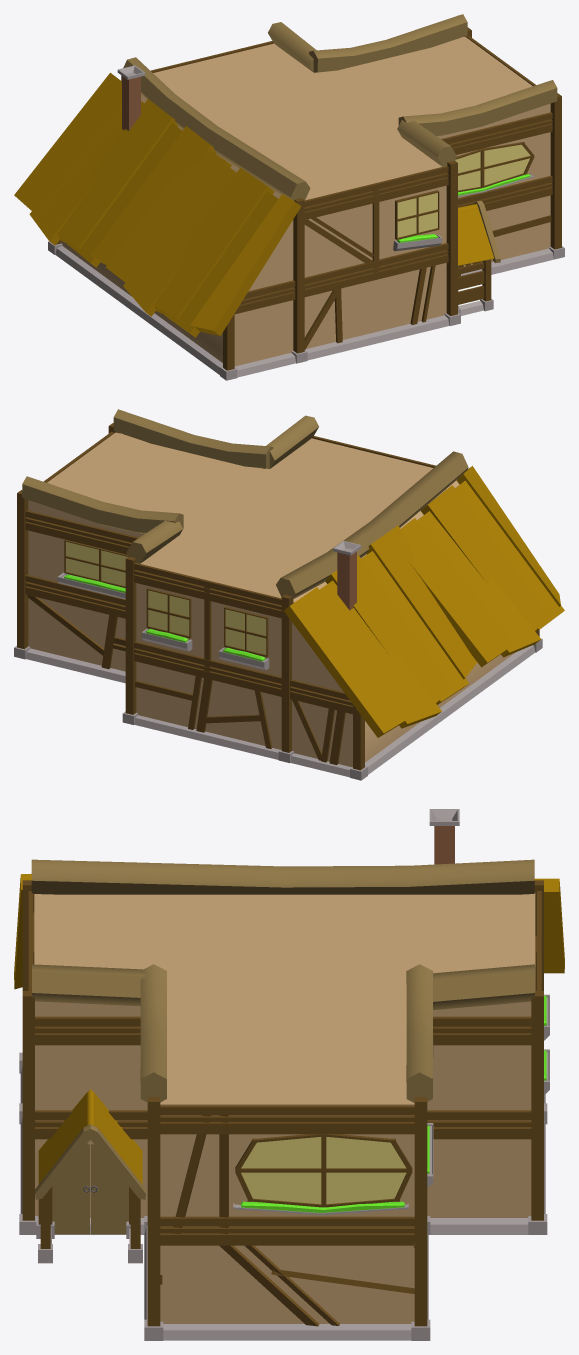
File: mesh_flat_house_T_section_Without.fbx
3 views of the same model, one above another, from view 1: azimuth 30°, elevation 25°; view 2: azimuth 150°, elevation 25°; view 3: azimuth 270°, elevation 25° (orthographic). The views are drawn at different scales.
Visible parts, largest first — view 1: flat_house_T_section_Without; view 2: flat_house_T_section_Without; view 3: flat_house_T_section_Without.
Boxes of the visible parts, left/top/right/bottom form: flat_house_T_section_Without: left=14, top=14, right=564, bottom=380; flat_house_T_section_Without: left=14, top=409, right=564, bottom=780; flat_house_T_section_Without: left=14, top=809, right=564, bottom=1340.
Bounding box in the file's own units: 1731 × 760 × 1326.
1 material, 1 textured.
